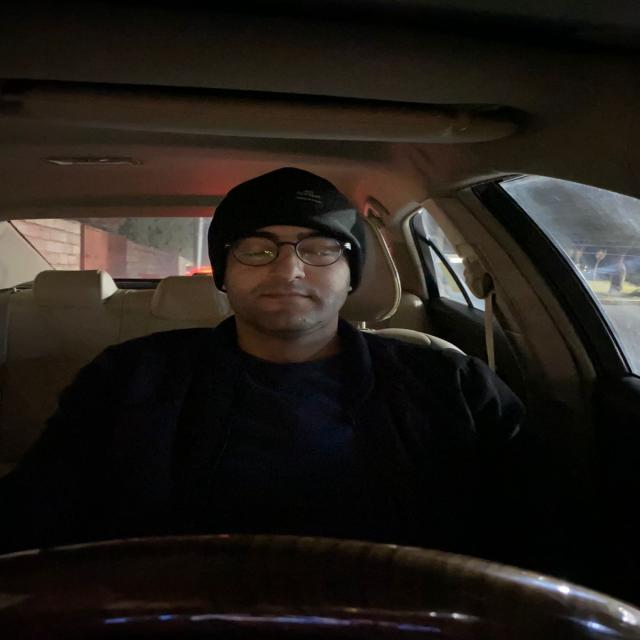drowsy: (196, 156, 376, 353)
